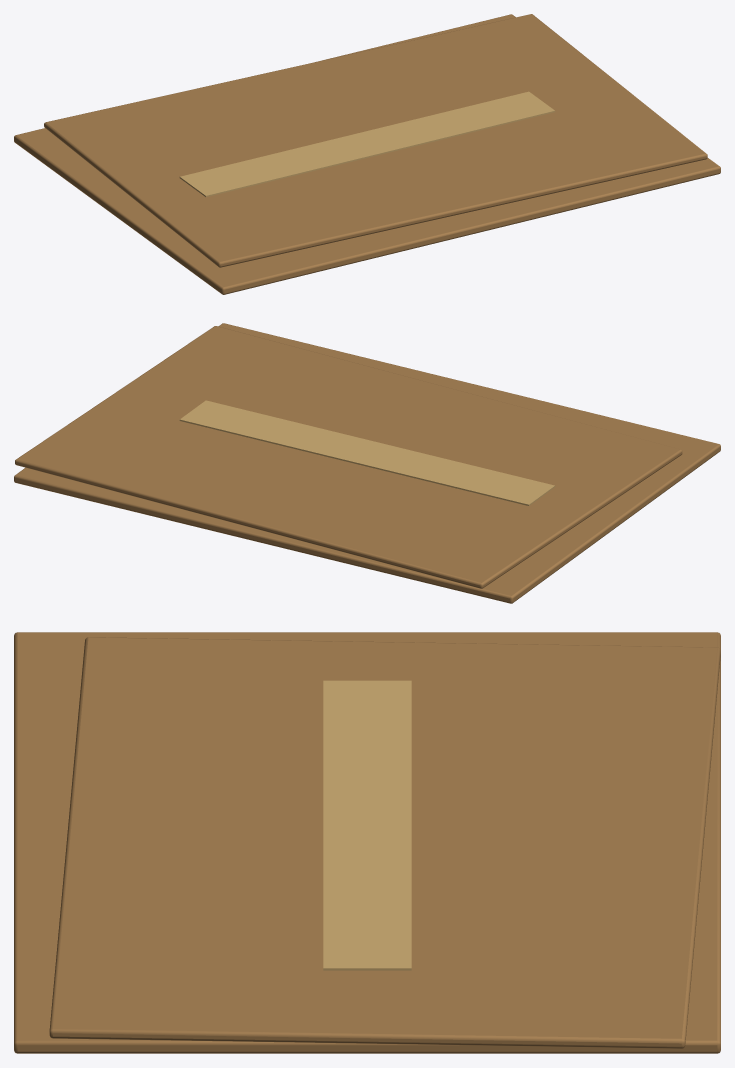
Rendered from item_card_sheet.fbx.
3 views of the same model, one above another, from view 1: azimuth 30°, elevation 25°; view 2: azimuth 150°, elevation 25°; view 3: azimuth 270°, elevation 25° (orthographic). The views are drawn at different scales.
Parts seen in each view (by area): view 1: item_card_sheet; view 2: item_card_sheet; view 3: item_card_sheet.
Boxes of the visible parts, box(x1,y1,x2,y2) form: item_card_sheet: box(14, 14, 720, 294); item_card_sheet: box(14, 323, 720, 603); item_card_sheet: box(14, 632, 720, 1053).
Size of the model in its own units: 0.5606 by 0.0155 by 0.4.
